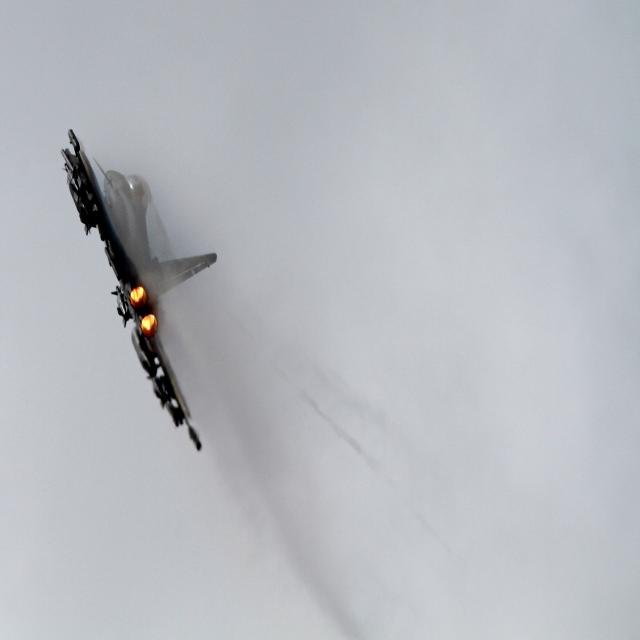MIL_Plane: (59, 129, 217, 453)
